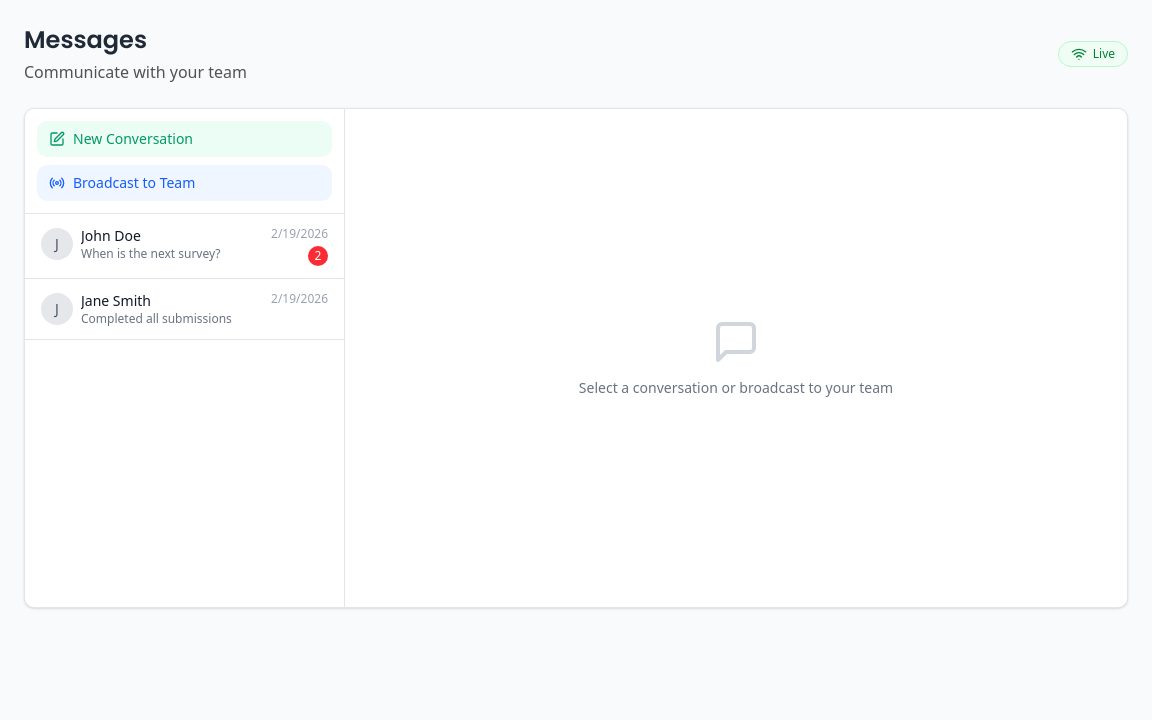
SupervisorMessagesPage › new conversation (AC #1-#5) › selecting enumerator with existing thread shows existing messages (AC #3)
Click the button "New Conversation": (184, 139) left=37, top=121, right=332, bottom=157
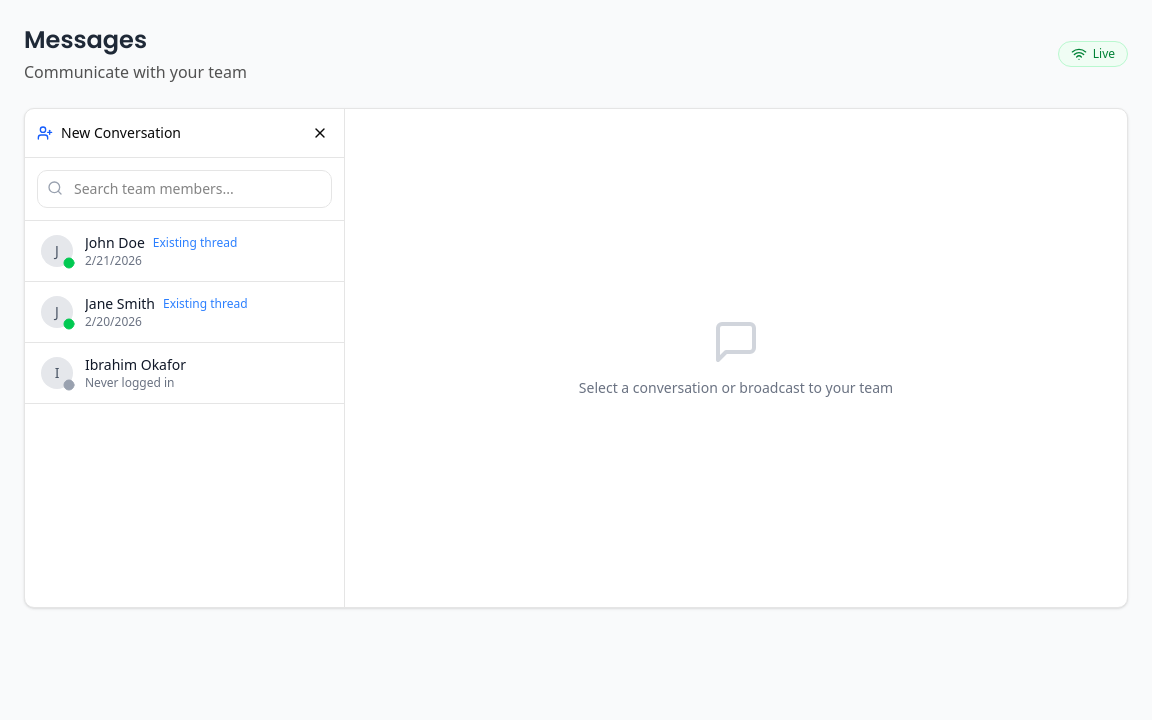
Click the list item with aria-label "Start conversation with John Doe (existing thread)": (184, 252) left=25, top=221, right=344, bottom=282
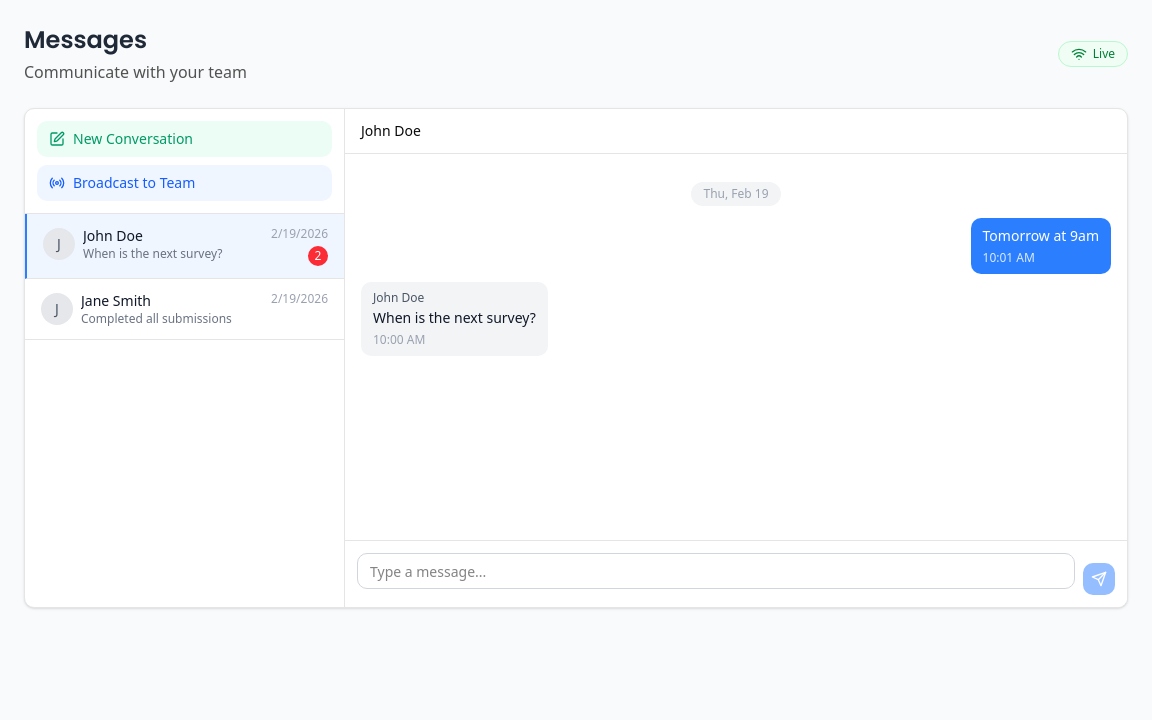
Now the text "When is the next survey?" below "Thu, Feb 19" is shown, box left=373, top=308, right=536, bottom=327
